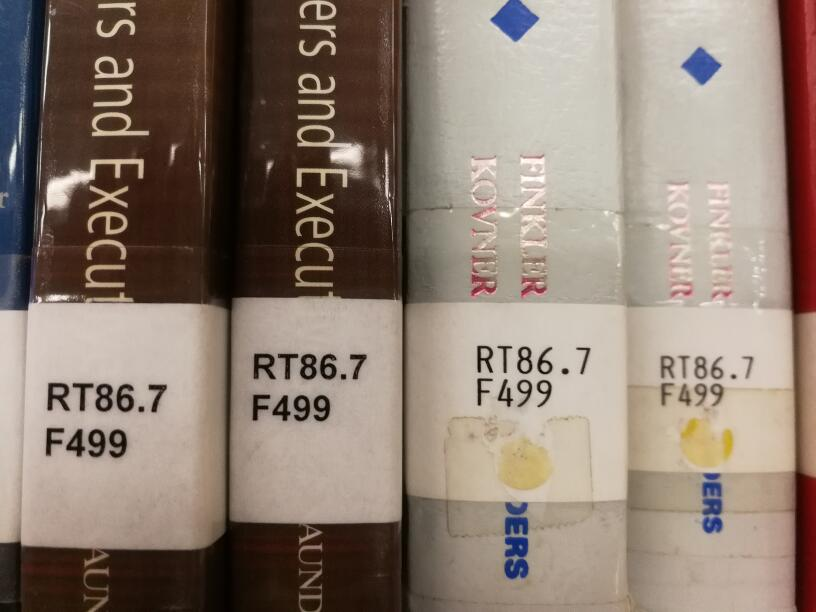booklabel: (44, 378, 169, 461), (249, 349, 369, 423), (473, 341, 595, 410), (656, 351, 757, 408)
